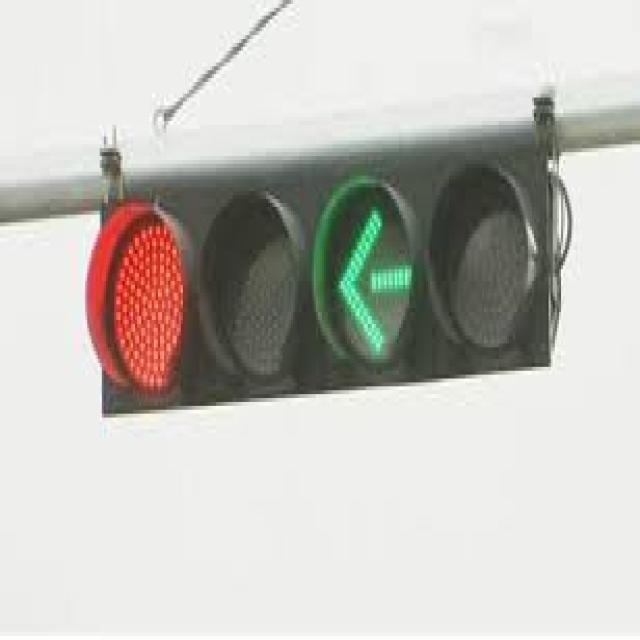Red Light: (85, 191, 204, 412)
